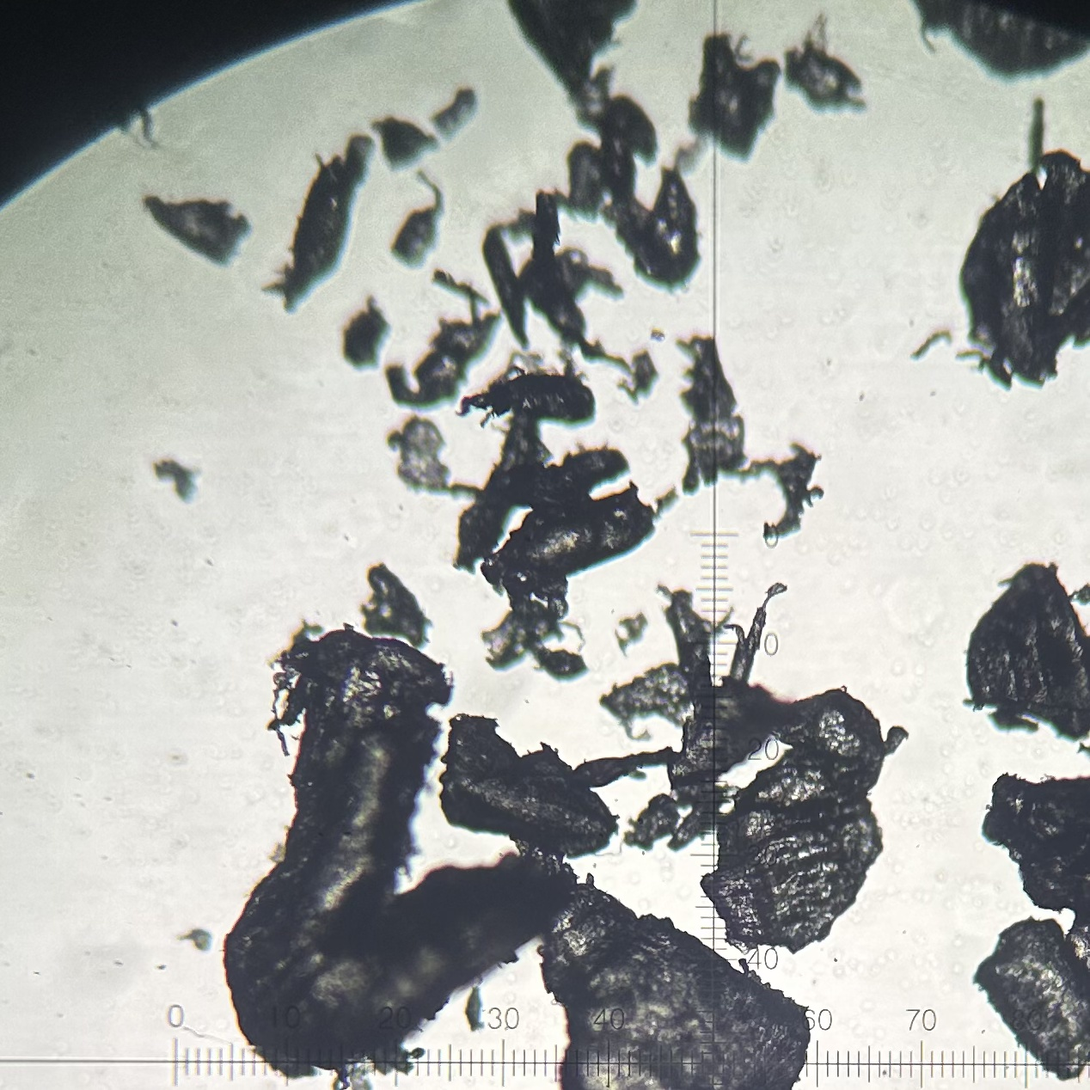microplastic: (217, 618, 577, 1088), (532, 872, 818, 1090), (698, 683, 914, 955), (956, 148, 1090, 402), (437, 710, 621, 860), (963, 559, 1090, 744), (978, 769, 1090, 966), (595, 95, 704, 294), (262, 134, 377, 315), (970, 915, 1090, 1080), (481, 481, 663, 589), (453, 403, 554, 576), (903, 1, 1090, 84), (664, 673, 800, 787), (502, 1, 638, 113), (685, 28, 783, 162), (383, 309, 508, 412), (675, 334, 751, 498), (453, 346, 599, 429), (518, 188, 590, 349), (729, 438, 827, 545), (655, 579, 735, 710), (383, 413, 487, 505), (472, 206, 534, 356), (503, 584, 591, 685), (141, 193, 254, 269), (594, 657, 695, 742), (782, 24, 872, 118), (503, 445, 631, 510), (356, 559, 438, 654), (723, 578, 791, 687), (482, 597, 565, 674), (386, 168, 446, 272), (572, 743, 680, 792), (550, 139, 607, 225), (367, 113, 444, 176), (664, 782, 732, 851), (550, 244, 628, 304), (340, 291, 394, 375), (622, 785, 681, 853), (570, 61, 620, 133), (428, 260, 495, 308), (573, 328, 634, 377), (428, 87, 482, 140), (150, 456, 206, 505), (616, 347, 662, 405), (513, 836, 572, 878), (113, 105, 163, 150), (906, 327, 955, 367), (1026, 95, 1049, 176), (987, 707, 1044, 737), (615, 610, 649, 658), (461, 278, 487, 337), (536, 576, 573, 617), (460, 984, 487, 1035), (173, 924, 214, 957), (655, 483, 681, 517), (350, 1063, 377, 1090), (1075, 583, 1090, 609), (648, 323, 666, 344), (1073, 739, 1090, 759)
